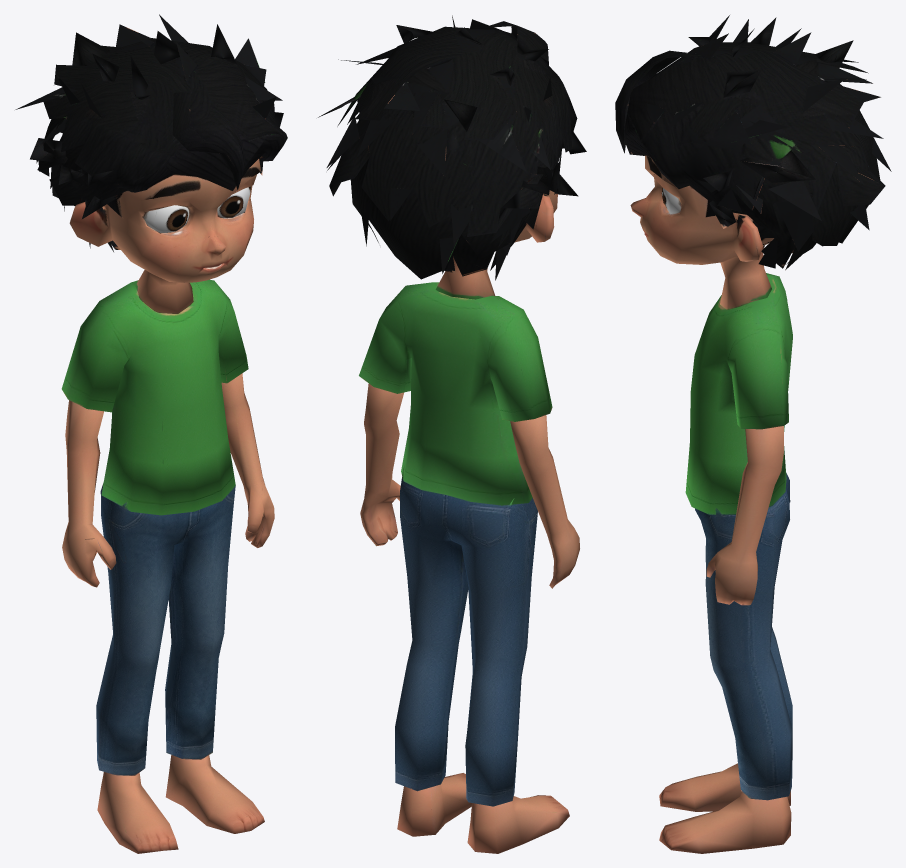
File: DinalCharacter.glb
3 views of the same model, side by side, from view 1: azimuth 30°, elevation 25°; view 2: azimuth 150°, elevation 25°; view 3: azimuth 270°, elevation 25° (orthographic). The views are drawn at different scales.
Parts seen in each view (by area): view 1: mesh_node; view 2: mesh_node; view 3: mesh_node.
Boxes of the visible parts, box(x1,y1,x2,y2) form: mesh_node: box(15, 14, 287, 853); mesh_node: box(318, 15, 586, 853); mesh_node: box(615, 15, 891, 853).
Size of the model in its own units: 0.2939 by 1 by 0.3164.
Materials: 1 (1 with a texture image).
